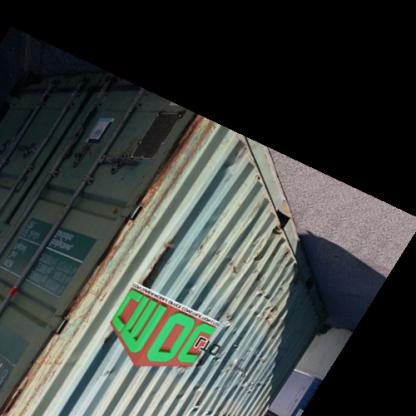Damage: (135, 244, 183, 316), (247, 288, 282, 334), (248, 228, 284, 268), (238, 375, 260, 406), (220, 352, 242, 383), (187, 383, 208, 414), (214, 255, 240, 279), (90, 364, 120, 381), (215, 318, 233, 346)
